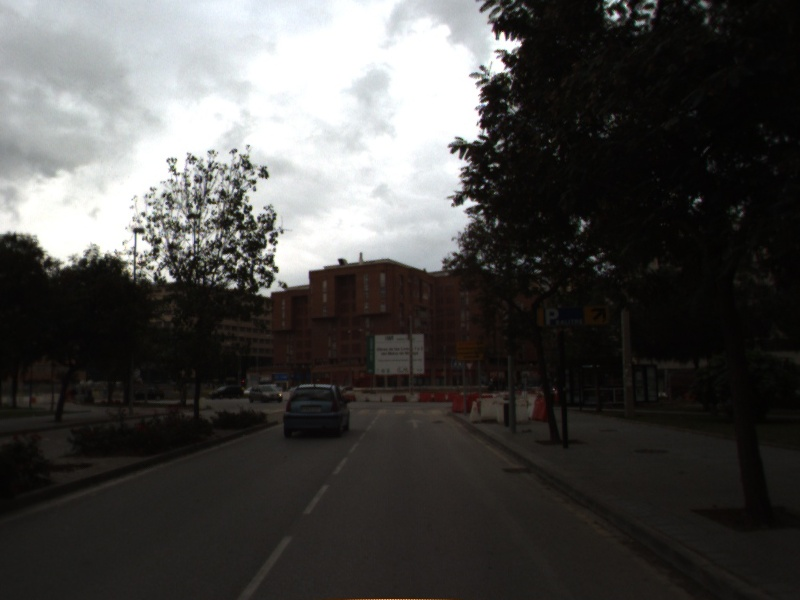STRAIGHT: (403, 416, 426, 430)
